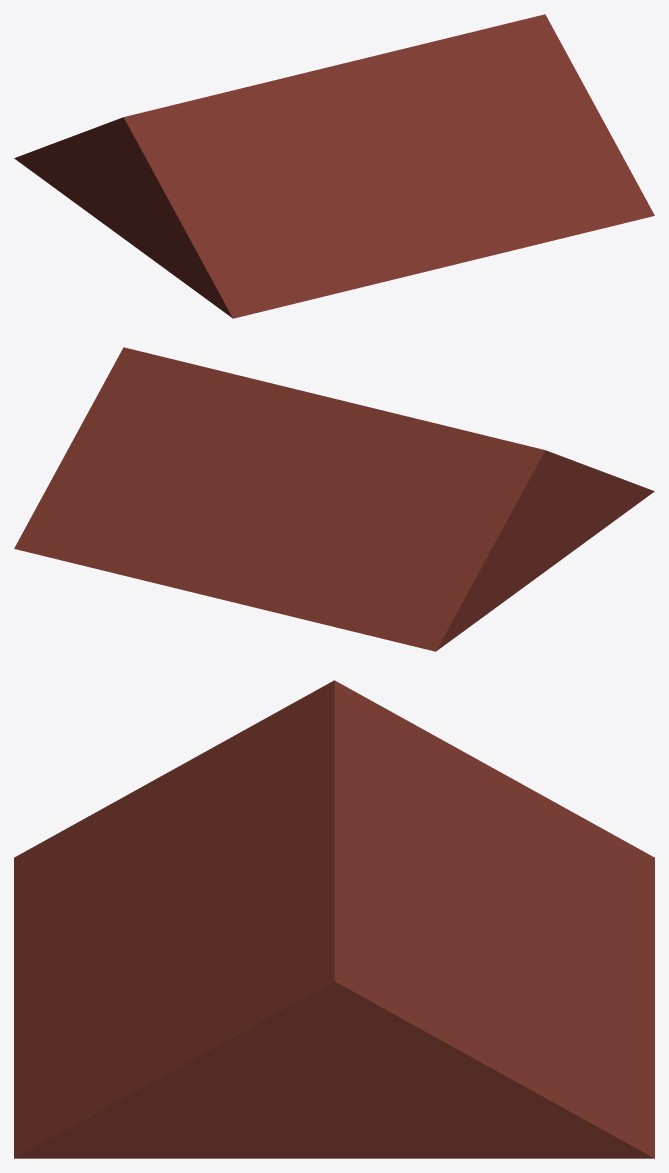
Rendered from roof.glb.
The picture shows the model from 3 angles, top to bottom: view 1: azimuth 30°, elevation 25°; view 2: azimuth 150°, elevation 25°; view 3: azimuth 270°, elevation 25°; orthographic projection. The views are drawn at different scales.
Parts seen in each view (by area): view 1: Cube; view 2: Cube; view 3: Cube.
Boxes of the visible parts, box(x1,y1,x2,y2) form: Cube: box(14, 14, 654, 318); Cube: box(14, 347, 654, 651); Cube: box(14, 680, 654, 1158).
Bounding box in the file's own units: 8 × 2.2 × 7.2.
